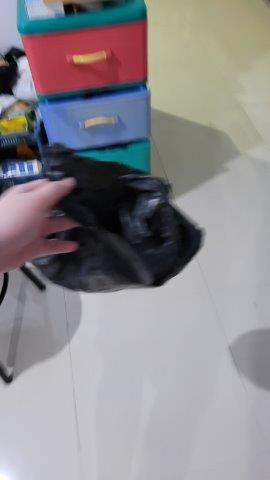plastik: (32, 140, 205, 297)
